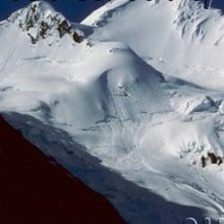neutral: (5, 3, 224, 213)
